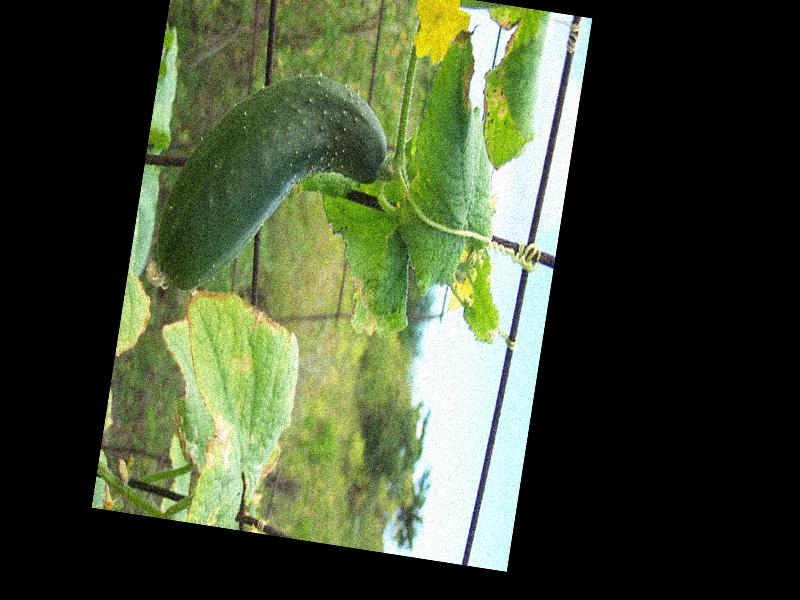Cucumber: (149, 57, 398, 321)
